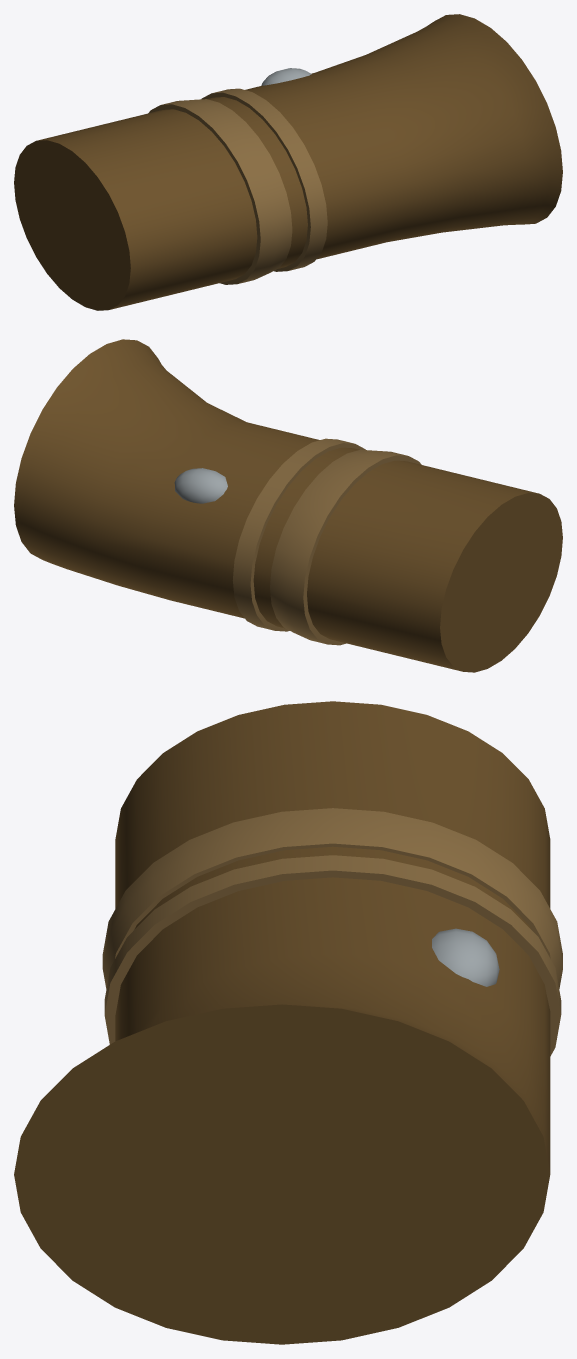
Rendered from pipe_arm_2.glb.
3 renders of one model, top to bottom at view 1: azimuth 30°, elevation 25°; view 2: azimuth 150°, elevation 25°; view 3: azimuth 270°, elevation 25°, orthographic. The views are drawn at different scales.
Parts seen in each view (by area): view 1: pipe, rib, rib2, bolt; view 2: pipe, rib, rib2, bolt; view 3: pipe, rib, rib2, bolt.
Part boxes in pixels (x1,y1,x2,y2): pipe: (14,14,562,310); rib: (148,99,292,284); rib2: (201,88,327,271); bolt: (261,68,311,85); pipe: (14,339,562,672); rib: (270,449,421,645); rib2: (232,438,365,631); bolt: (174,468,227,503); pipe: (14,701,550,1344); rib: (102,808,562,988); rib2: (104,855,561,1056); bolt: (432,928,499,986).
Size of the model in its own units: 24 by 10.36 by 15.15.
